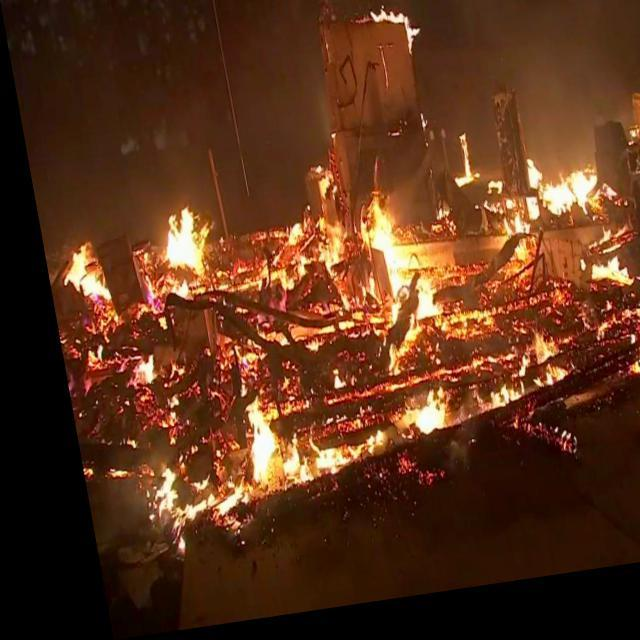Fire: (54, 128, 639, 510)
